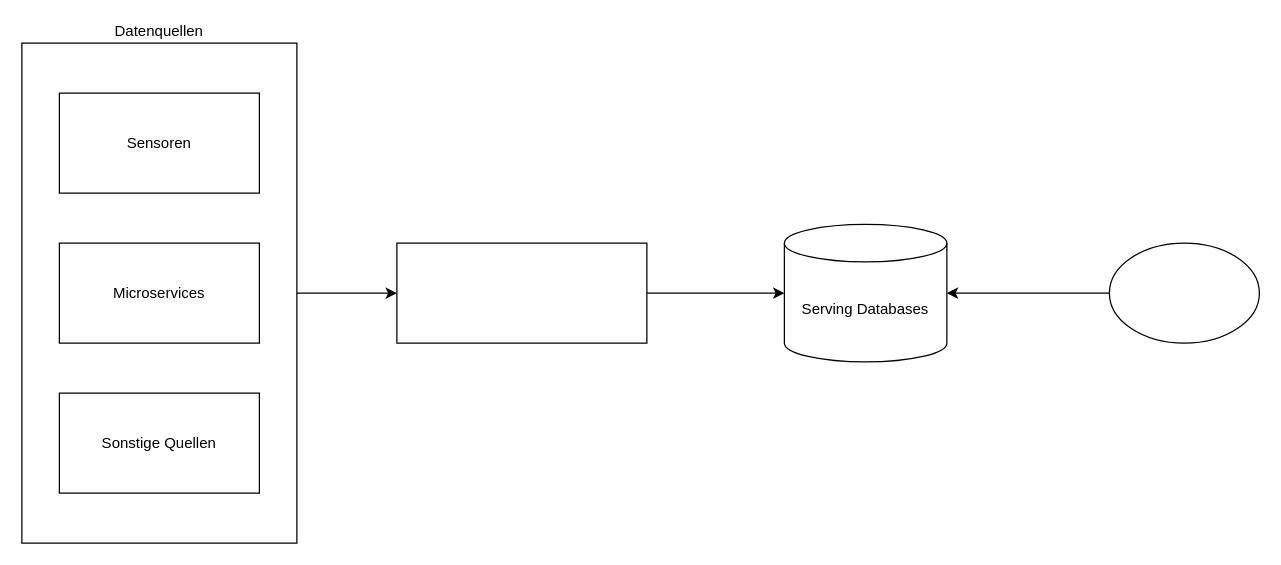
Image size: 1281x565. Some labels were removed from this diagram. Each missing label, with the centre of its shape:
Queries: point 1183,292
Stream Processing System: point 521,292
